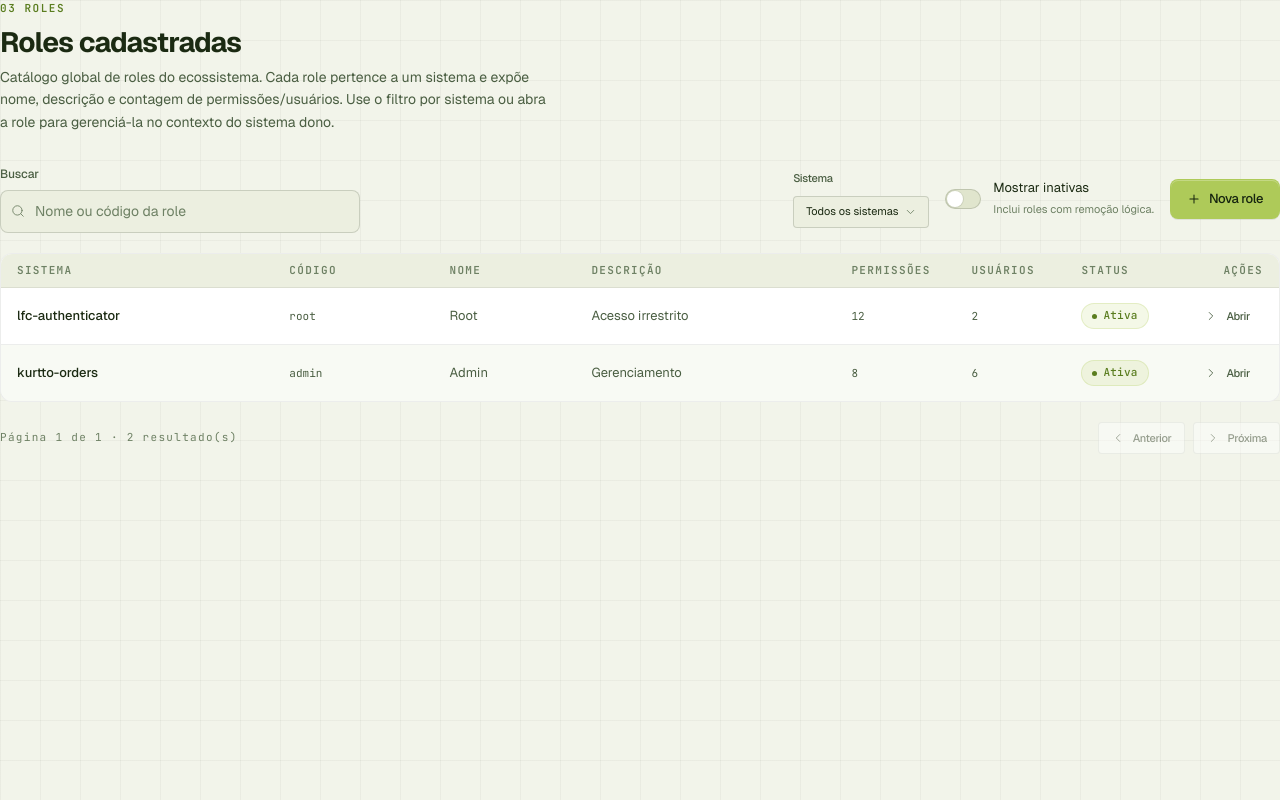
Scenario: RolesGlobalListShellPage — Issue #193 criar role global › exibe toast quando POST falha após tentativa de criar
Click the button with test id "roles-global-create-open" at (1225, 199), box left=1170, top=179, right=1279, bottom=219
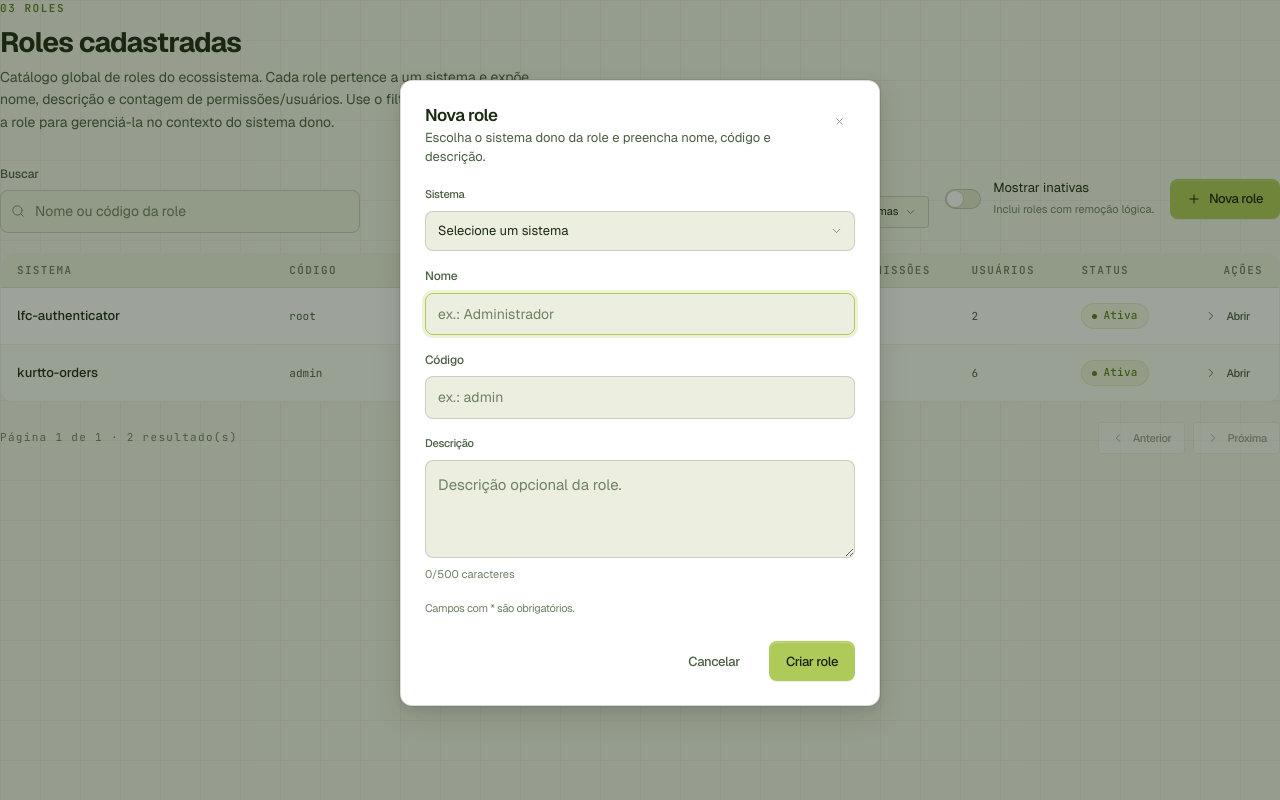
Expected: the form with test id "new-role-form" is shown, left=425, top=267, right=855, bottom=681
Select "lfc-authenticator" in the dropdown with test id "new-role-system" at (640, 231), box left=425, top=211, right=855, bottom=251
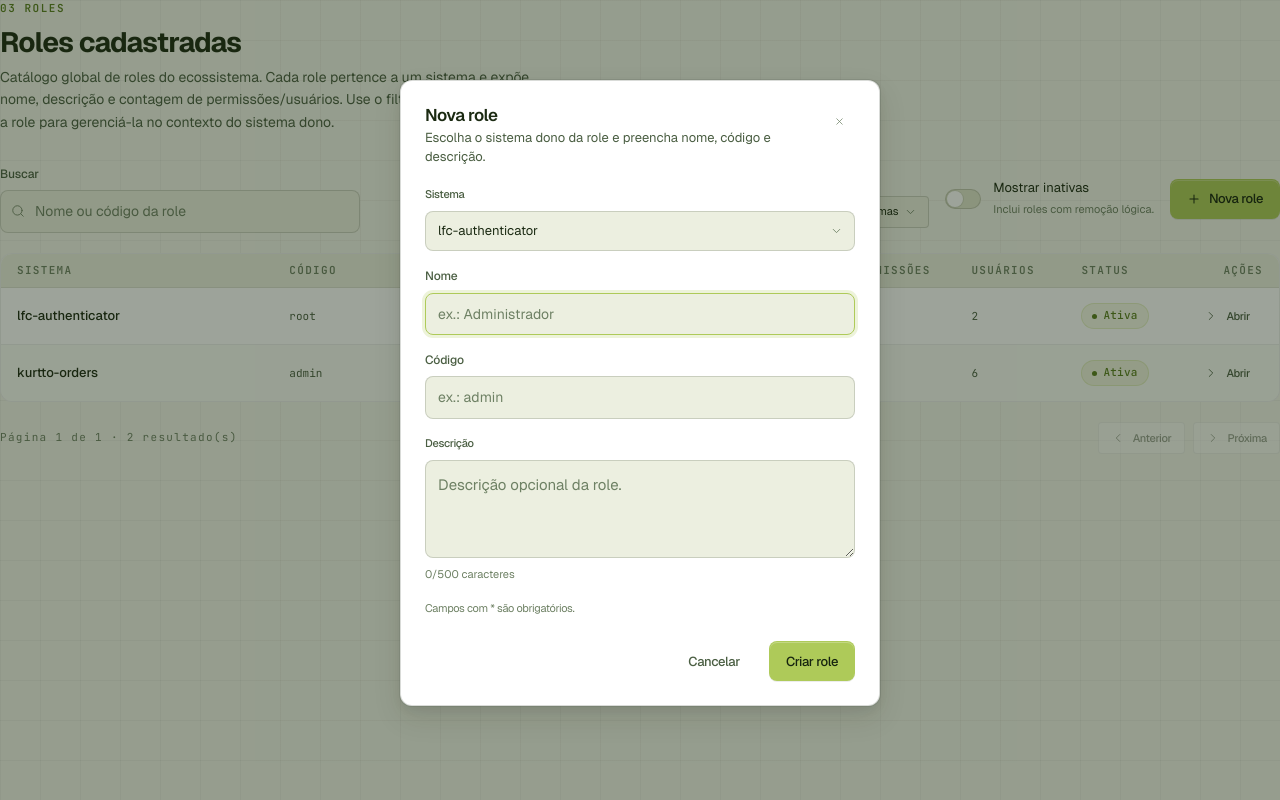
Type "Algum Nome" into the field with test id "new-role-name" at (640, 314), box left=425, top=292, right=855, bottom=335
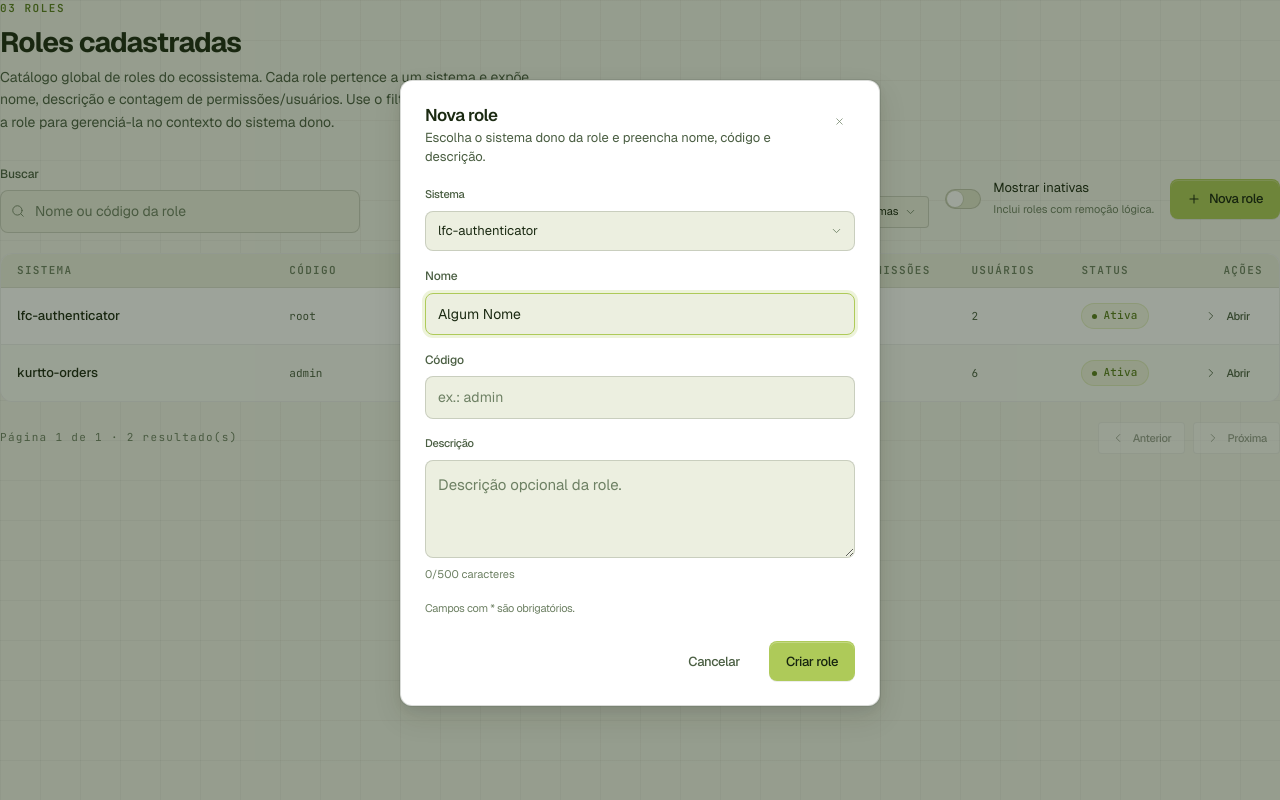
Type "algum_code" into the field with test id "new-role-code" at (640, 397), box left=425, top=376, right=855, bottom=418
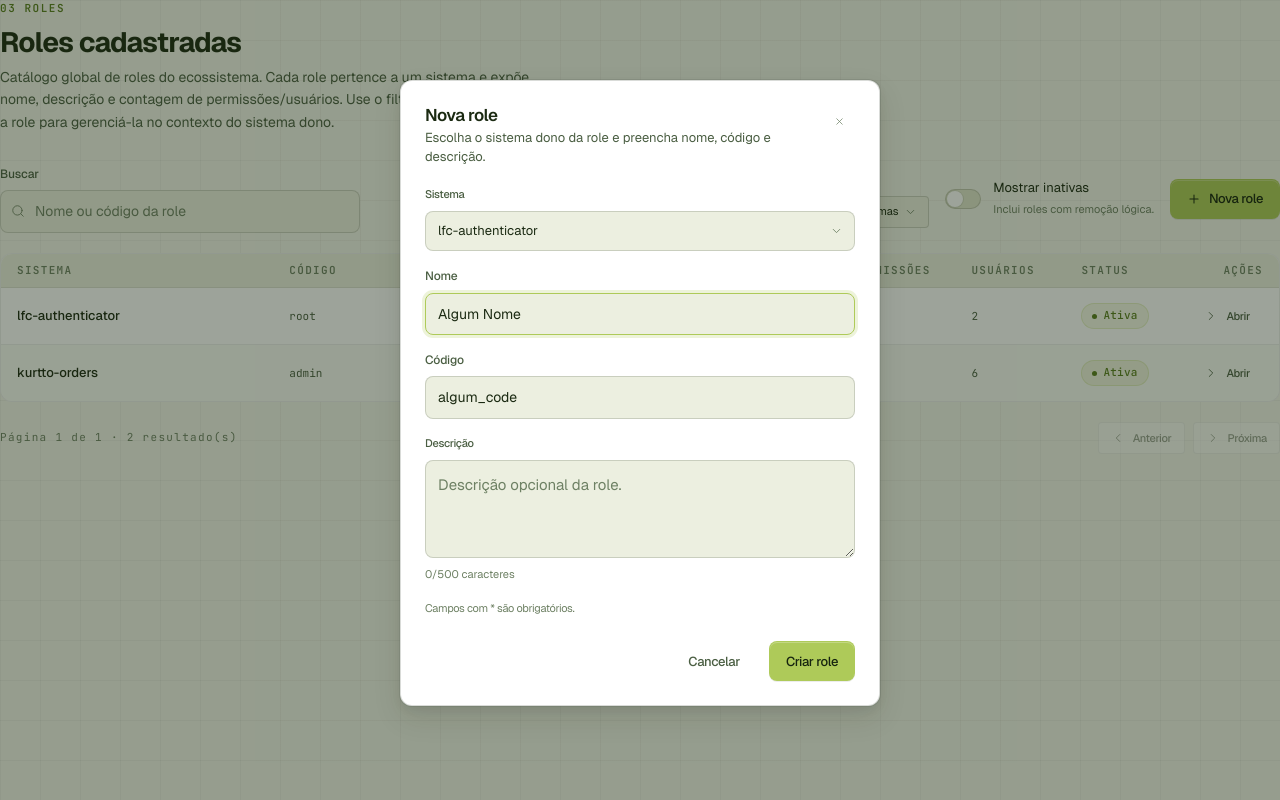
Submit the form with test id "new-role-form", box left=425, top=267, right=855, bottom=681
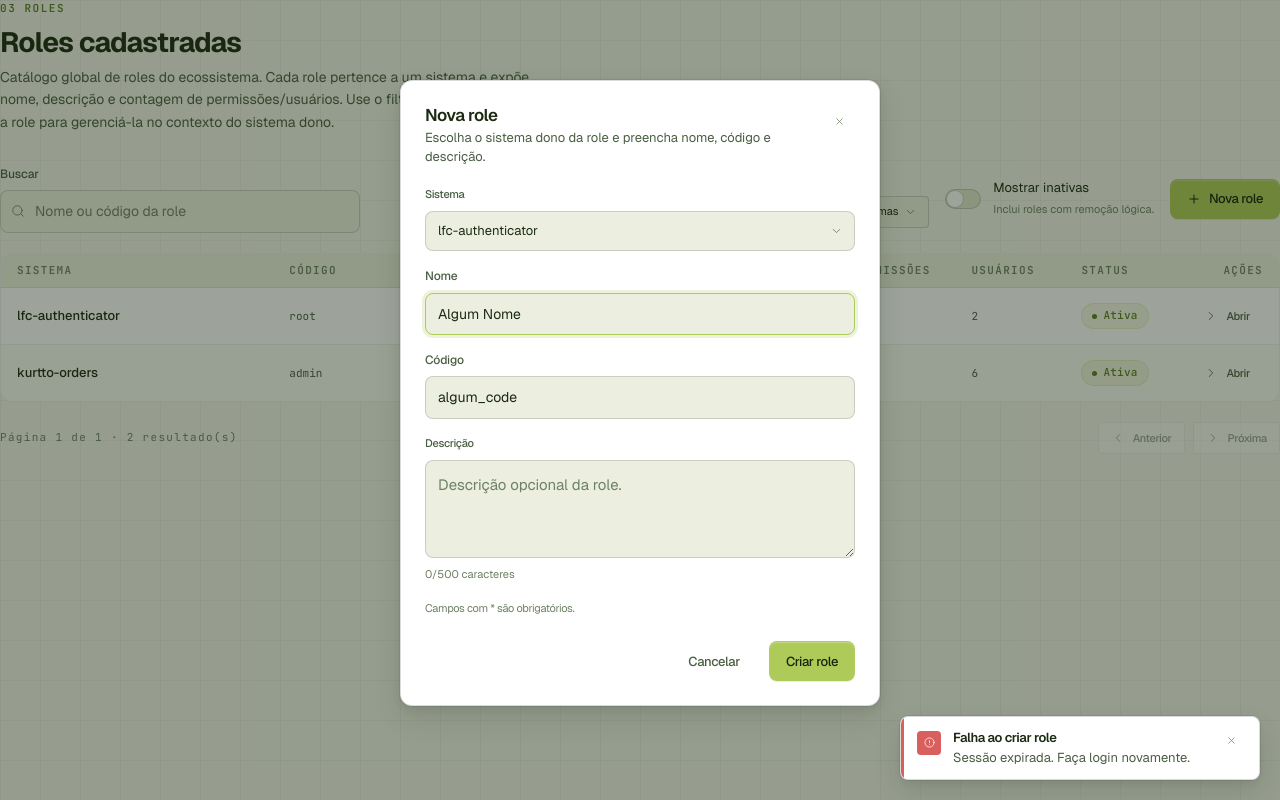
Expected: the dialog is shown, left=400, top=80, right=880, bottom=706
Expected: the text "Sessão expirada. Faça login novamente." is shown, left=953, top=749, right=1207, bottom=767
